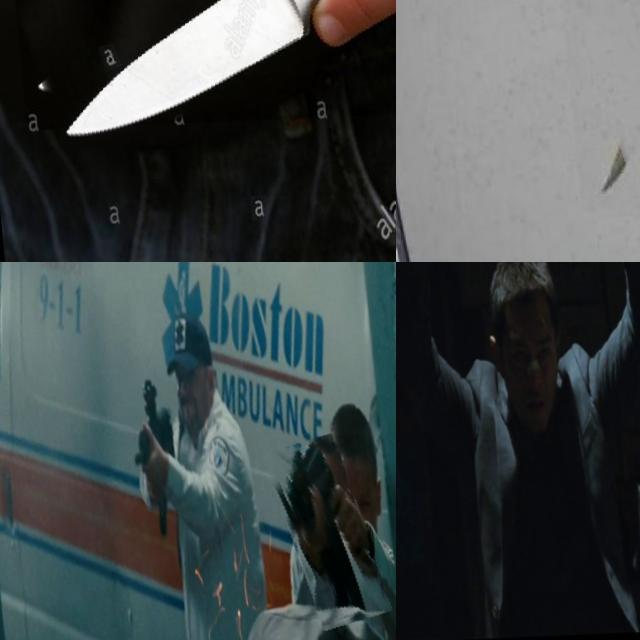-: (1, 0, 396, 130), (547, 0, 640, 213)
gun-knife-thesis - v11 Yolov5 augmented: (266, 439, 374, 633), (121, 370, 178, 544), (606, 476, 640, 588)
